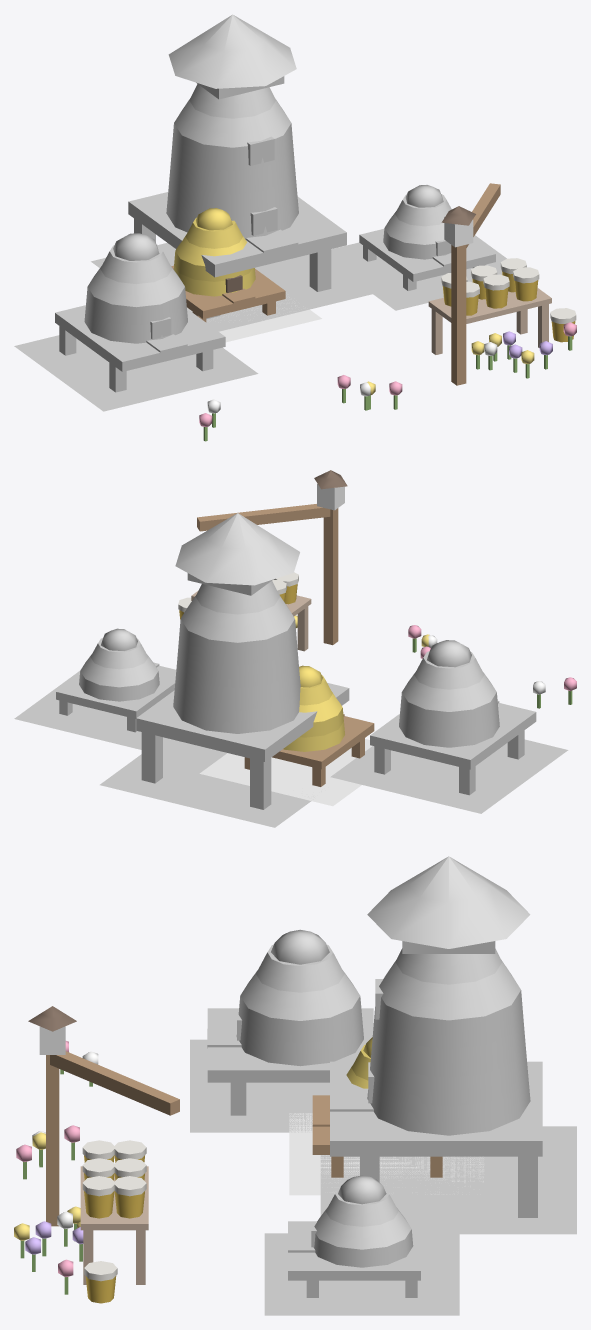
The model's file is beehive_1.glb.
The picture shows the model from 3 angles, top to bottom: view 1: azimuth 30°, elevation 25°; view 2: azimuth 150°, elevation 25°; view 3: azimuth 270°, elevation 25°; orthographic projection. The views are drawn at different scales.
Parts seen in each view (by area): view 1: when_plan_true, body4, body3, beehive_1, body2, body; view 2: when_plan_true, body4, beehive_1, body; view 3: when_plan_true, body4, body3, beehive_1, body, body2.
Part boxes in pixels (x1,y1,x2,y2): when_plan_true: [14, 14, 506, 411]; body4: [171, 183, 576, 441]; body3: [500, 258, 576, 342]; beehive_1: [188, 297, 321, 342]; body2: [471, 265, 509, 308]; body: [441, 273, 479, 315]; when_plan_true: [14, 513, 568, 827]; body4: [191, 470, 576, 786]; beehive_1: [199, 739, 372, 806]; body: [272, 572, 298, 604]; when_plan_true: [190, 856, 576, 1315]; body4: [14, 1006, 442, 1294]; body3: [82, 1176, 146, 1303]; beehive_1: [289, 1113, 483, 1195]; body: [82, 1140, 146, 1162]; body2: [82, 1158, 146, 1180].
Size of the model in its own units: 1.8 by 0.9968 by 1.55.
